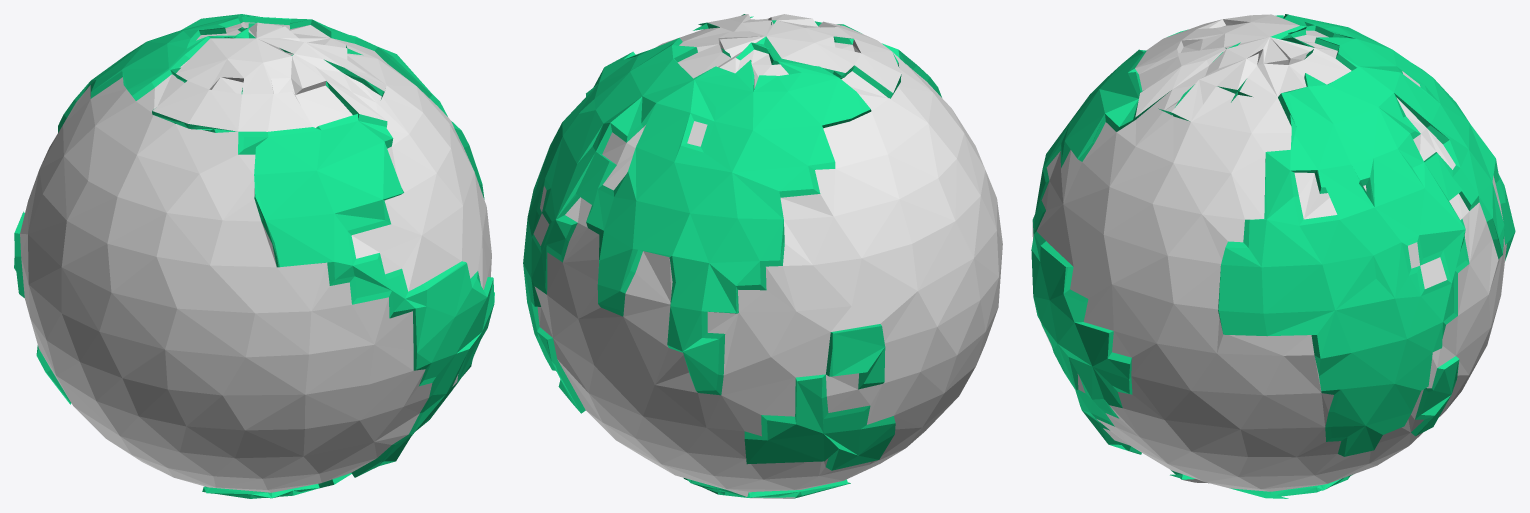
Rendered from earth.fbx.
The picture shows the model from 3 angles, left to right: view 1: azimuth 30°, elevation 25°; view 2: azimuth 150°, elevation 25°; view 3: azimuth 270°, elevation 25°; orthographic projection.
Parts seen in each view (by area): view 1: Sphere; view 2: Sphere; view 3: Sphere.
Part boxes in pixels (x1=…): Sphere: x1=14, y1=14, x2=494, y2=498; Sphere: x1=523, y1=14, x2=1002, y2=498; Sphere: x1=1031, y1=14, x2=1515, y2=498.
Bounding box in the file's own units: 1085 × 1092 × 1100.
